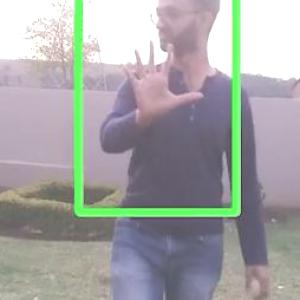follow_hand: (118, 32, 204, 122)
